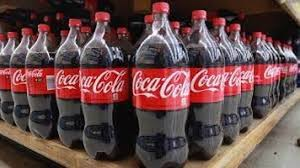coke-bottle-2l: (129, 2, 191, 167), (79, 9, 130, 163), (192, 5, 230, 156)
